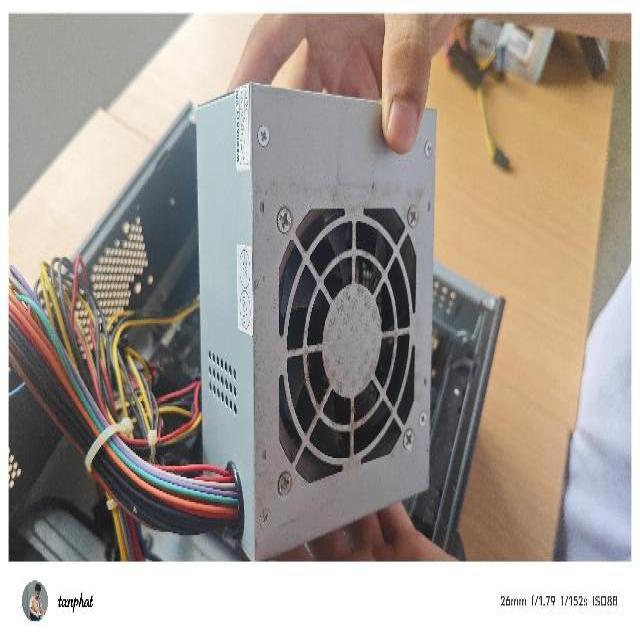PSU: (190, 83, 437, 560)
